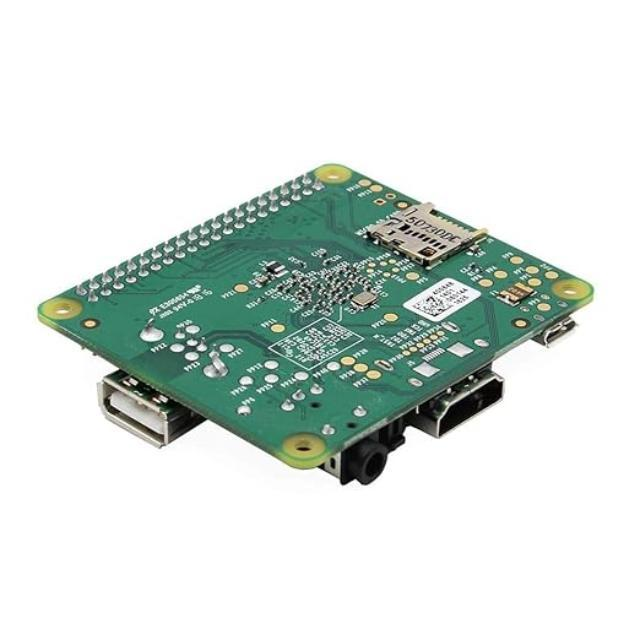Raspberry-Pi-1-A-: (39, 165, 594, 485)
